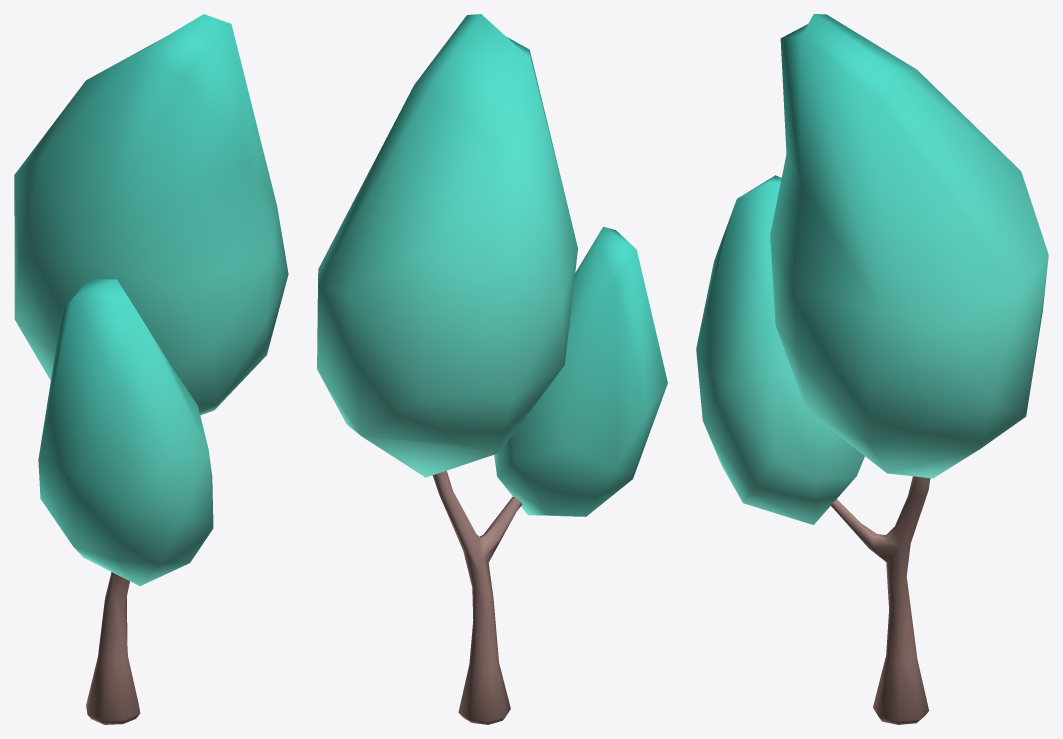
The model's file is Tree01_S_Blue.fbx.
3 renders of one model, left to right at view 1: azimuth 30°, elevation 25°; view 2: azimuth 150°, elevation 25°; view 3: azimuth 270°, elevation 25°, orthographic. The views are drawn at different scales.
Parts seen in each view (by area): view 1: Tree01_S_Blue; view 2: Tree01_S_Blue; view 3: Tree01_S_Blue.
Boxes of the visible parts, x1,y1,x2,y2 form: Tree01_S_Blue: (14, 14, 288, 724); Tree01_S_Blue: (317, 14, 667, 724); Tree01_S_Blue: (696, 14, 1048, 724).
Bounding box in the file's own units: 4.09 × 9.85 × 4.34.
